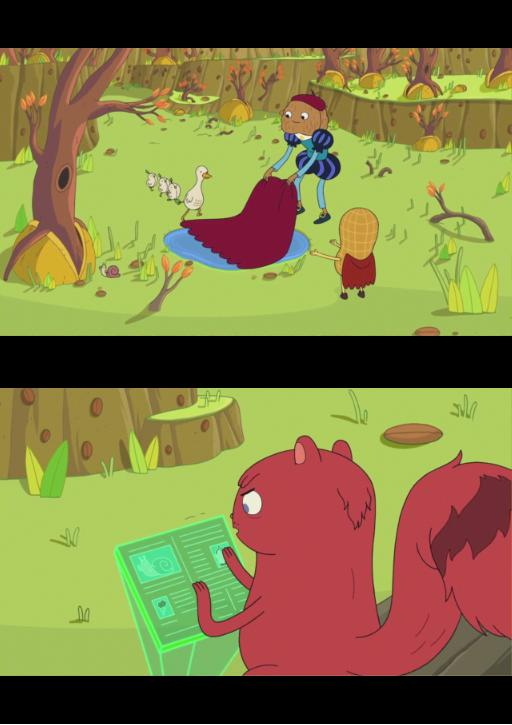snail: (95, 261, 120, 280)
